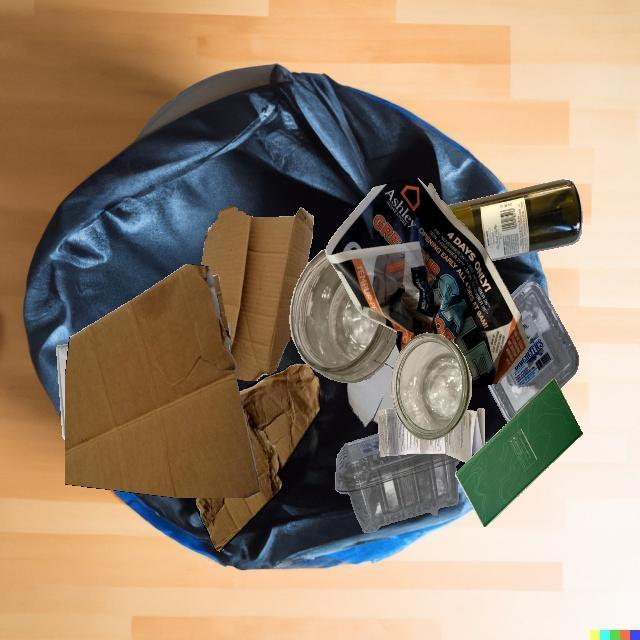cardboard: (65, 264, 260, 498), (196, 363, 320, 551), (201, 206, 313, 381)
glass: (290, 249, 396, 383), (448, 179, 583, 261), (391, 333, 472, 440)
paper: (325, 178, 530, 389), (455, 379, 583, 527), (65, 334, 231, 440), (377, 408, 485, 463), (347, 343, 399, 428), (56, 344, 69, 440)
plastic: (487, 281, 579, 422), (335, 433, 460, 533)
